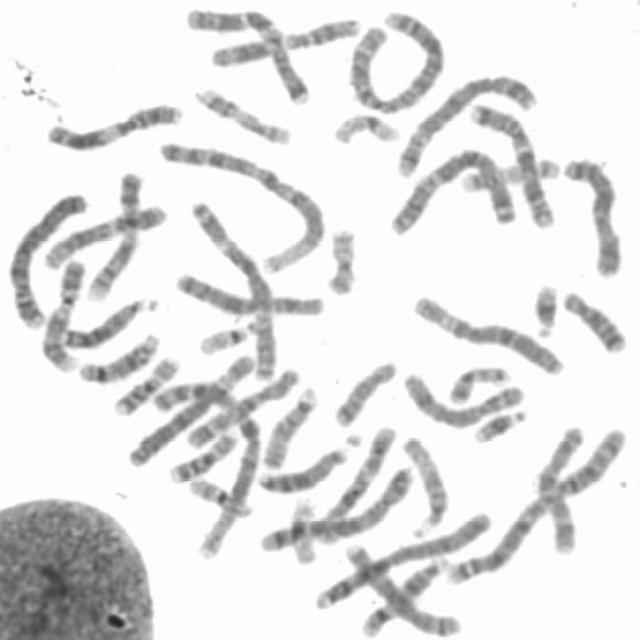A1: (157, 135, 326, 275), (144, 371, 260, 559)
A2: (438, 422, 631, 588), (342, 6, 450, 117)
A3: (186, 197, 281, 384), (385, 144, 525, 238)
B4: (309, 506, 496, 614), (2, 188, 88, 331)
B5: (393, 70, 539, 181), (255, 462, 420, 552)
C10: (181, 364, 303, 451), (533, 422, 586, 554)
C11: (203, 11, 366, 70), (42, 98, 185, 152)
C12: (305, 422, 398, 546), (38, 200, 170, 271)
C6: (121, 360, 268, 476), (407, 291, 566, 377)
C7: (178, 2, 314, 107), (465, 98, 559, 232)
C8: (342, 539, 462, 637), (397, 366, 529, 432)
C9: (82, 168, 146, 302), (40, 255, 88, 374)
D13: (57, 293, 162, 351), (255, 440, 355, 494)
D14: (357, 552, 451, 637), (74, 329, 161, 386)
D15: (398, 431, 451, 535), (258, 385, 317, 471)
E16: (109, 352, 180, 418), (183, 473, 255, 518)
E17: (190, 83, 295, 146), (455, 156, 564, 196)
E18: (558, 288, 630, 356), (330, 358, 398, 429)
F19: (330, 111, 401, 145), (286, 495, 319, 566)
F20: (322, 223, 361, 296), (446, 364, 512, 406)
G21: (467, 404, 530, 444), (530, 279, 560, 338)
G22: (168, 440, 238, 483), (195, 318, 258, 356)
X: (560, 151, 625, 279), (171, 268, 325, 318)
